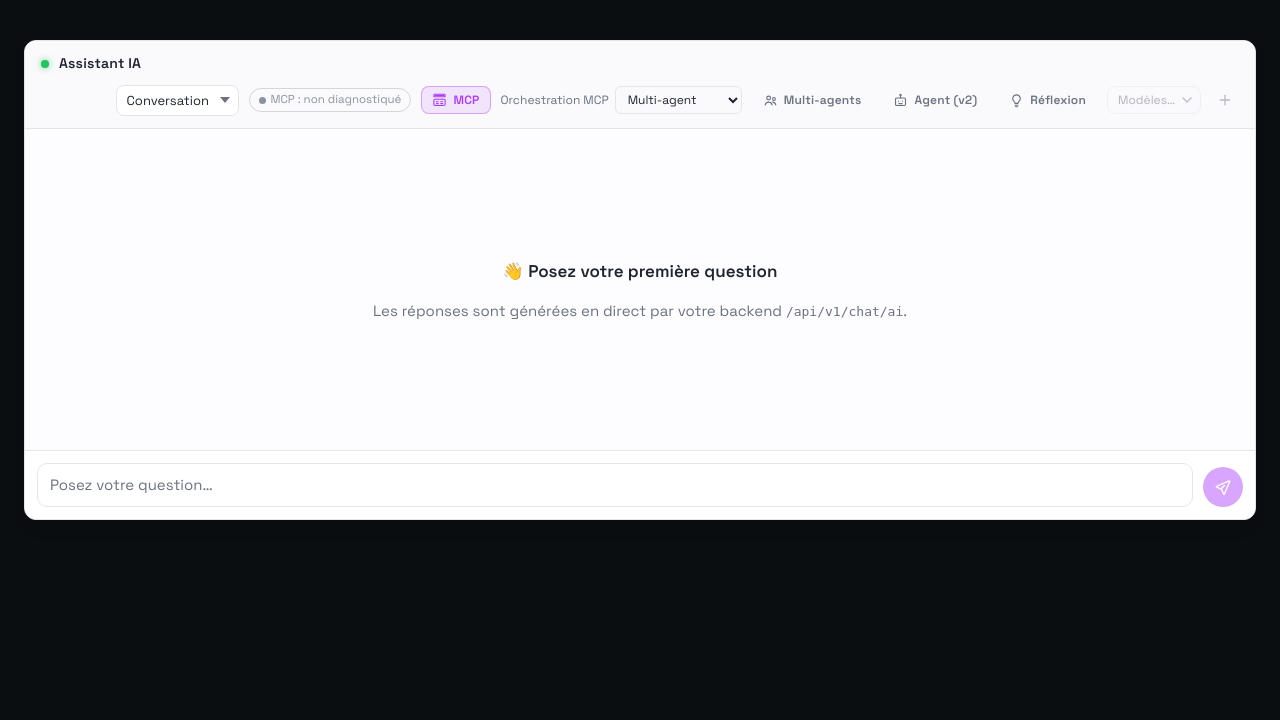
ChatWindow - sélecteur d’orchestration MCP › ChatWindow - réponse finale multi-agents › affiche l'erreur MCP quand thinking est suivi de agent.error sans agent.done (P0)
Type "Info CPU et GPU ?" into the text box named "Votre message" at (615,485), box [37,463,1193,507]
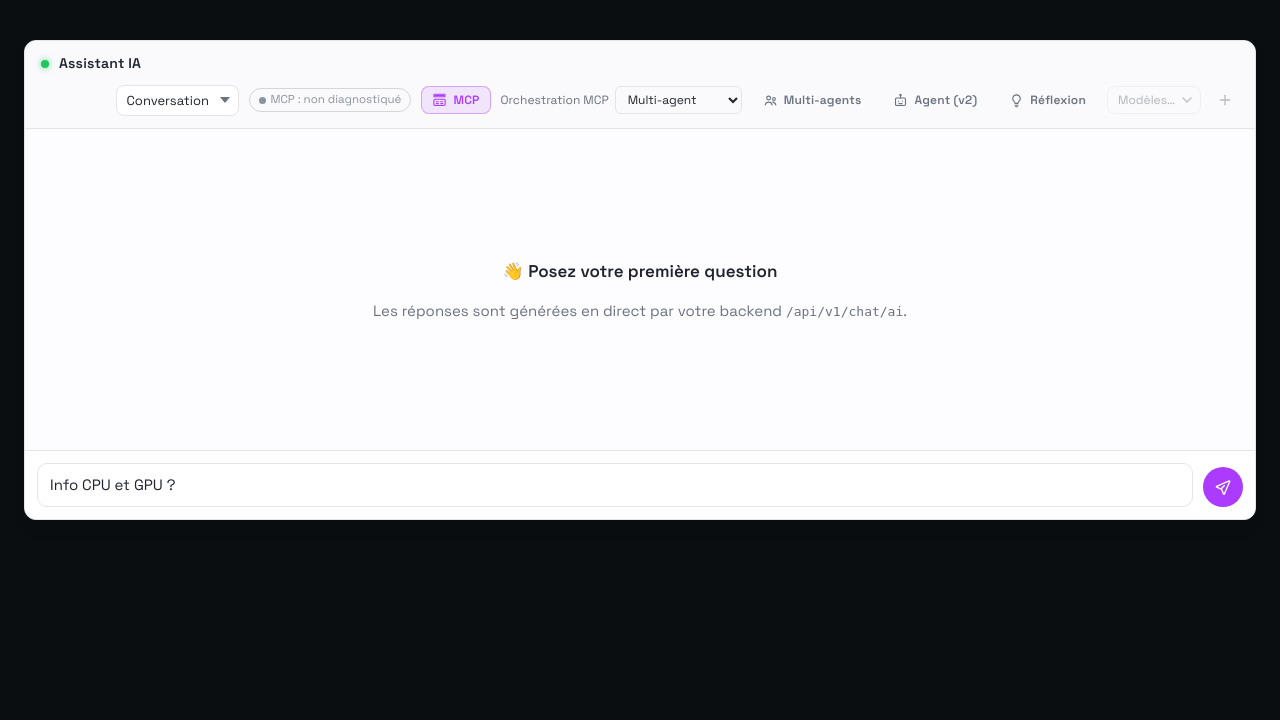
Click the button named "Envoyer" at (1223,487), box [1203,467,1243,507]
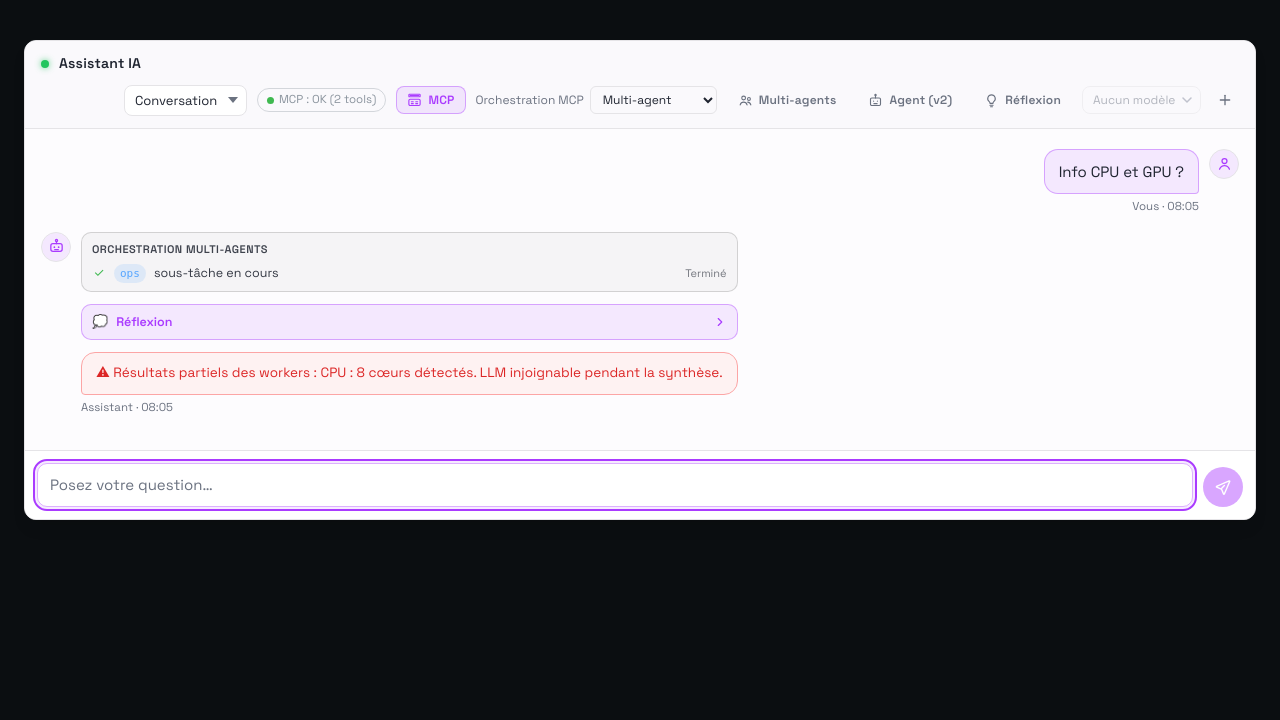
Now the text "LLM injoignable pendant la synthèse." is shown, box [113,364,723,381]
